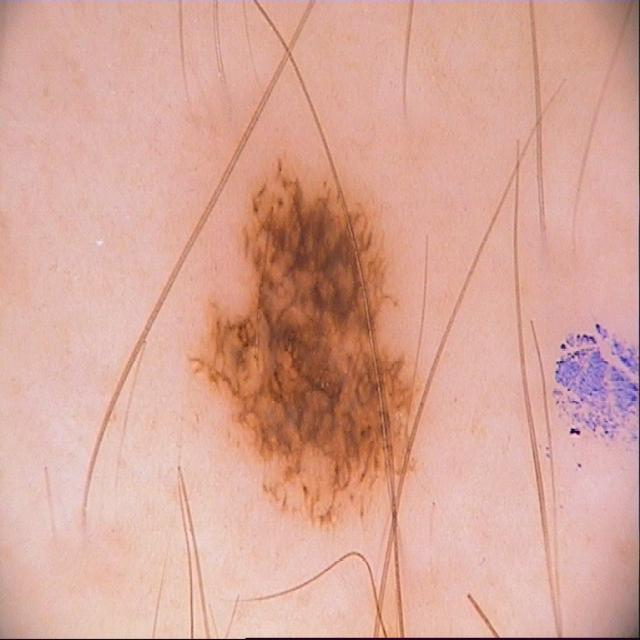Skin-Cancer Nevus: (79, 5, 640, 628)
